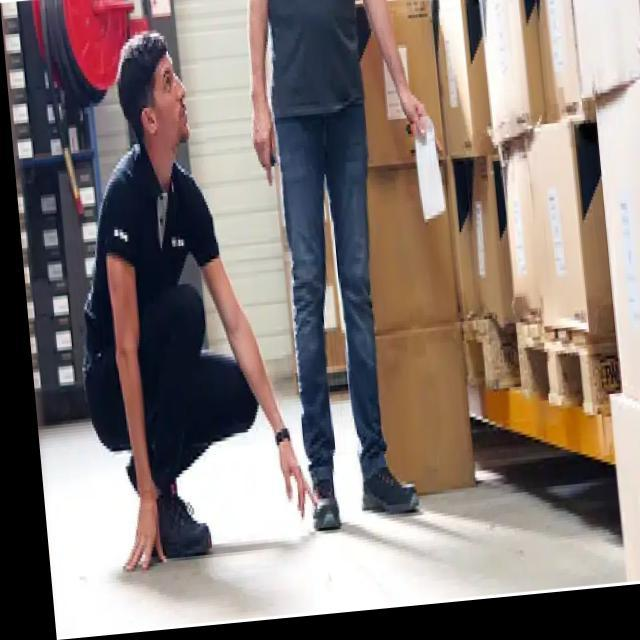boots: (122, 442, 219, 571), (299, 436, 424, 536)
